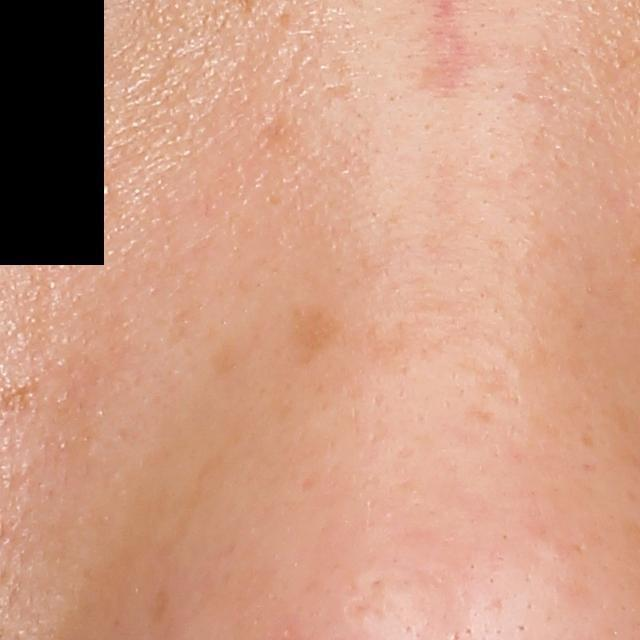atrophic_scar: (342, 571, 397, 629)
melasma: (283, 298, 348, 371), (205, 321, 241, 380)
